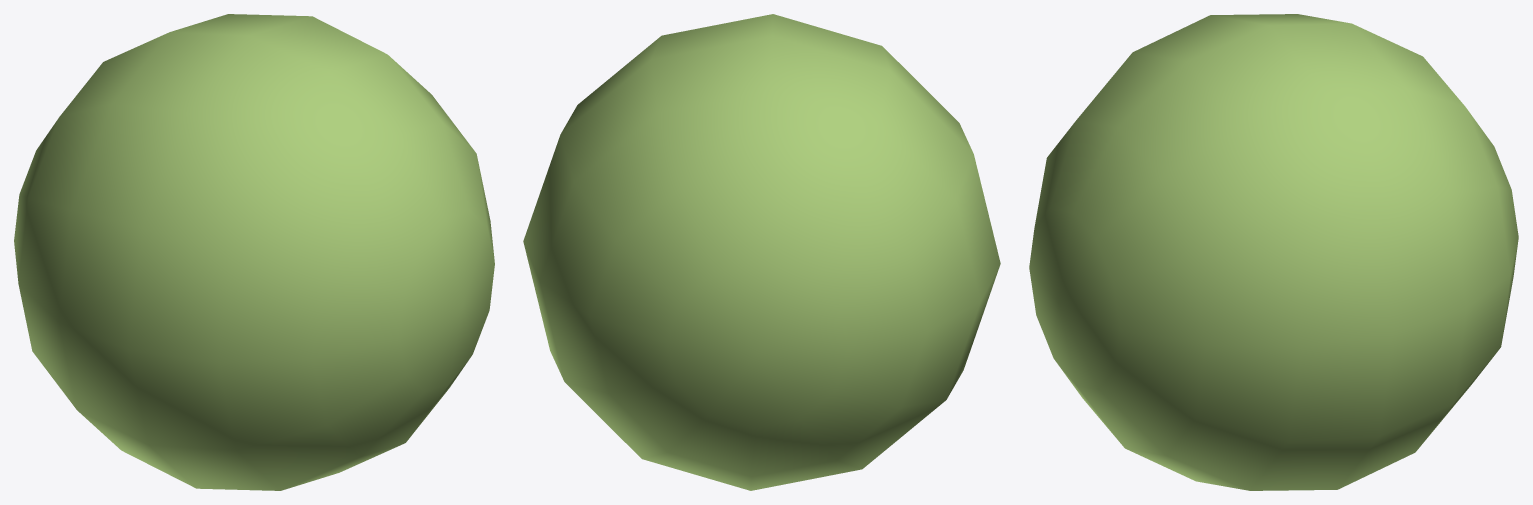
Rendered from nasolabial-node-l.glb.
The picture shows the model from 3 angles, left to right: view 1: azimuth 30°, elevation 25°; view 2: azimuth 150°, elevation 25°; view 3: azimuth 270°, elevation 25°; orthographic projection. The views are drawn at different scales.
Visible parts, largest first — view 1: Nasolabial node.l; view 2: Nasolabial node.l; view 3: Nasolabial node.l.
Part boxes in pixels (bbox=[...]): Nasolabial node.l: bbox=[14, 14, 494, 490]; Nasolabial node.l: bbox=[523, 14, 1000, 490]; Nasolabial node.l: bbox=[1029, 14, 1518, 490].
Size of the model in its own units: 0.00258 by 0.0026 by 0.00258.
